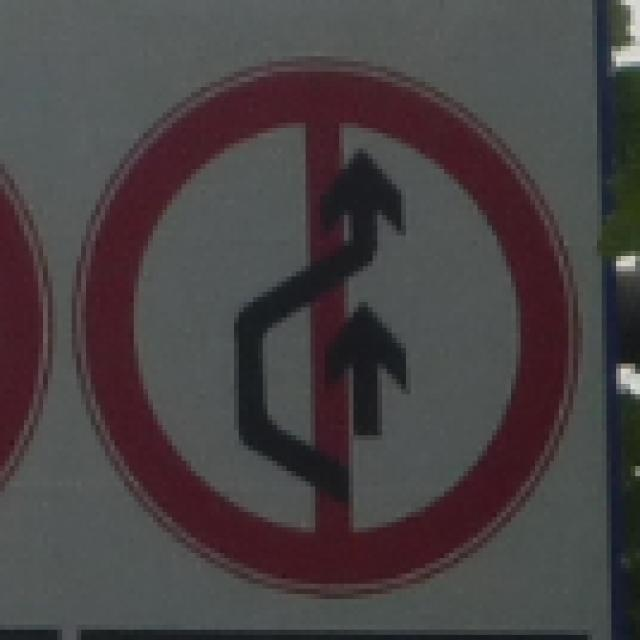Not that Direction: (87, 60, 593, 582)
